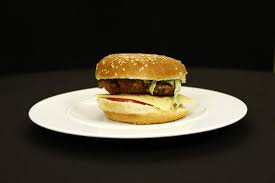hamburger: (94, 50, 193, 123)
